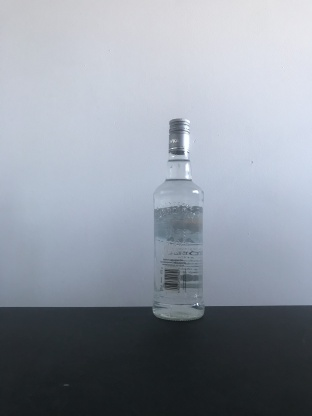nakretka: (167, 116, 191, 154)
